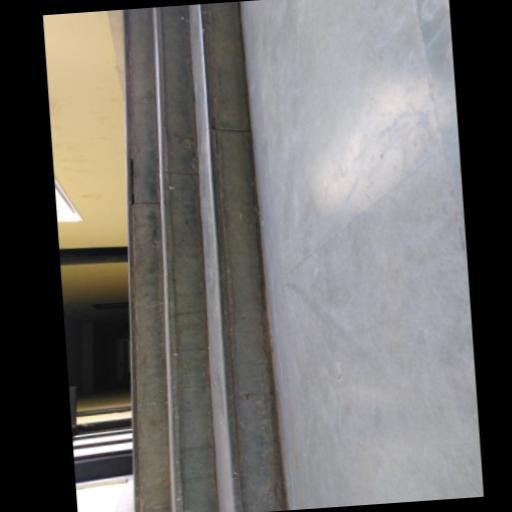stairs: (125, 2, 285, 511)
